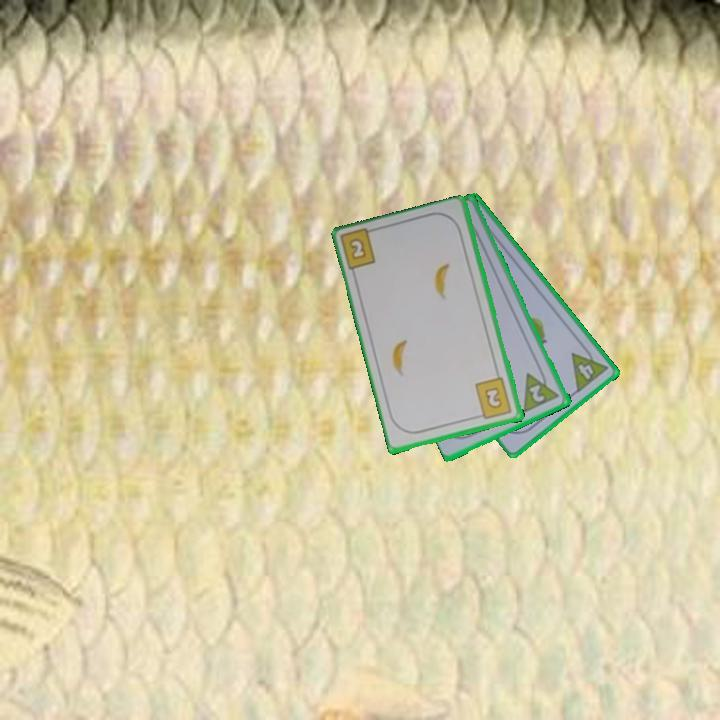2b: (472, 374, 515, 422), (339, 226, 382, 274)
2p: (526, 381, 548, 406)
4p: (568, 341, 611, 395)
